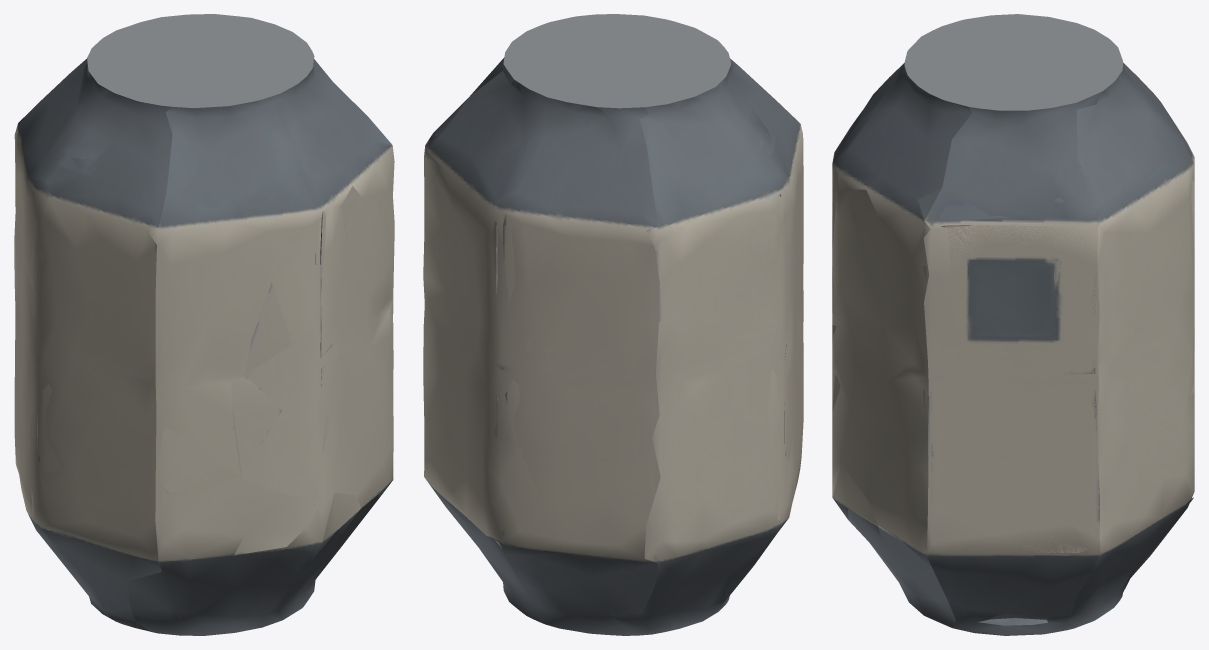
The model's file is small_hull.glb.
The picture shows the model from 3 angles, left to right: view 1: azimuth 30°, elevation 25°; view 2: azimuth 150°, elevation 25°; view 3: azimuth 270°, elevation 25°; orthographic projection.
Parts seen in each view (by area): view 1: part; view 2: part; view 3: part.
Part boxes in pixels (x1,y1,x2,y2): part: (14, 14, 394, 635); part: (423, 14, 803, 635); part: (832, 14, 1194, 635).
Size of the model in its own units: 1 by 1.6 by 1.
Materials: 2 (1 with a texture image).
